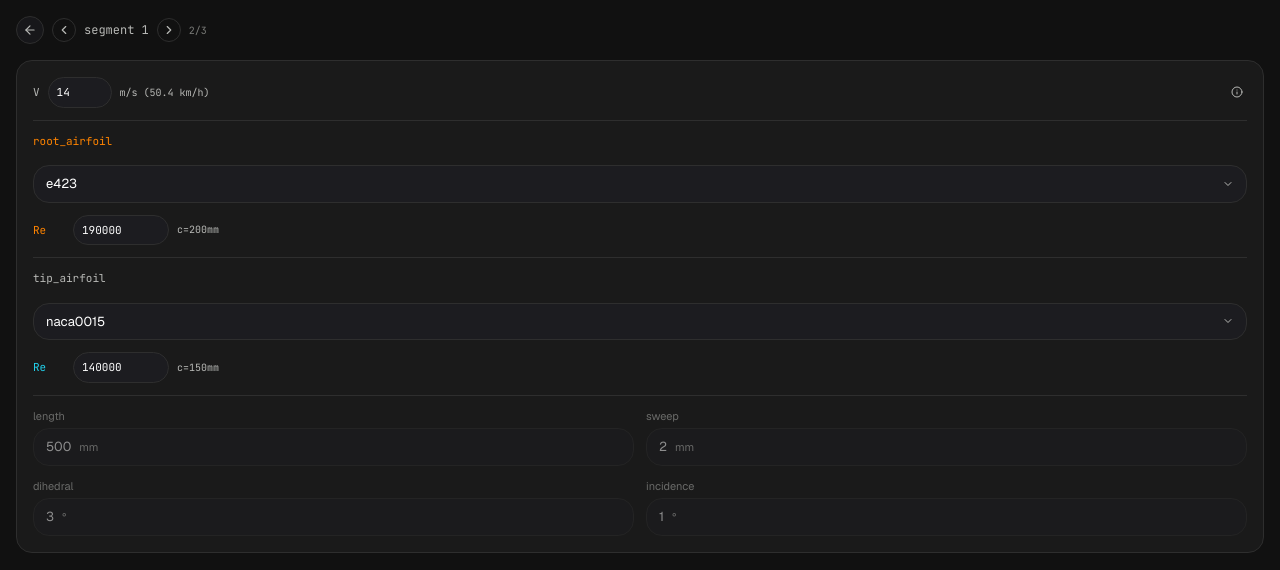
it: AirfoilPreviewConfigPanel — coverage › velocity input rejects zero value (v <= 0) and resets
The image size is (1280, 570).
Replace the text in the number field showing "14" next to "m/s (" with "0": {"x": 80, "y": 92} [48,77,112,108]
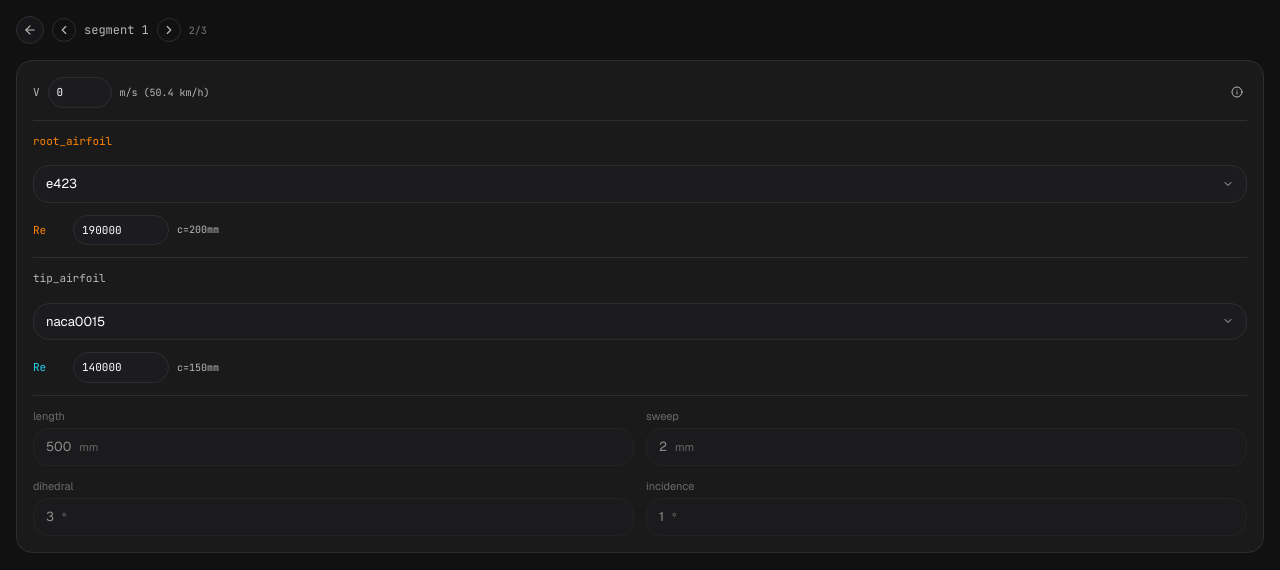
Leave the number field showing "14" next to "m/s (", box [48,77,112,108]
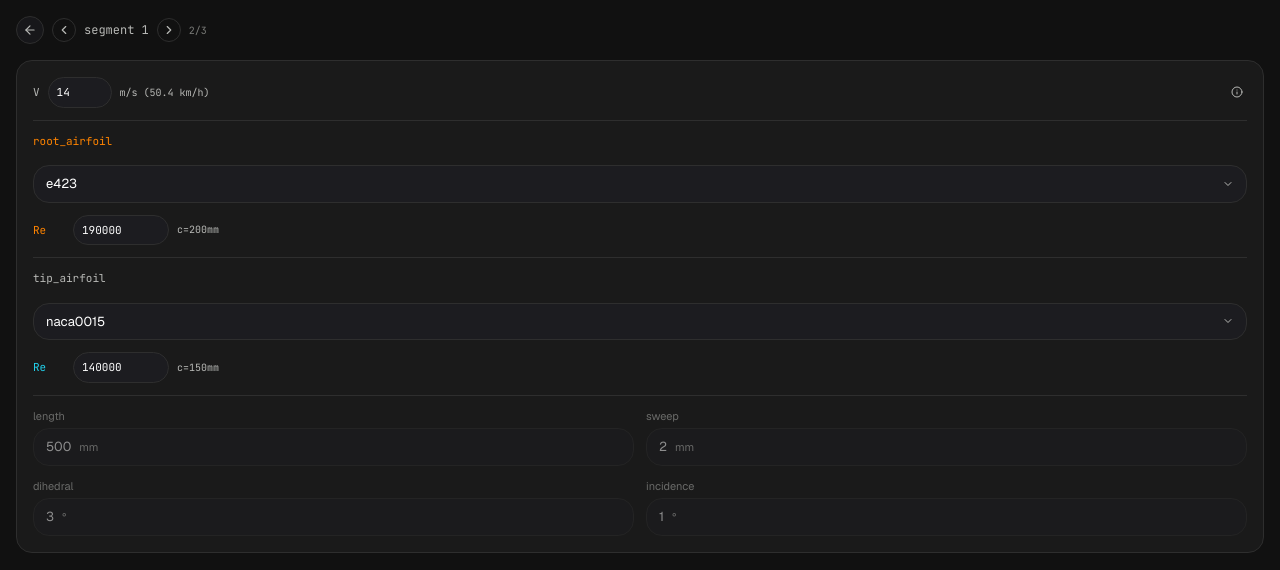
Result: the number field showing "14" next to "m/s (" holds "14" at [48,77,112,108]
